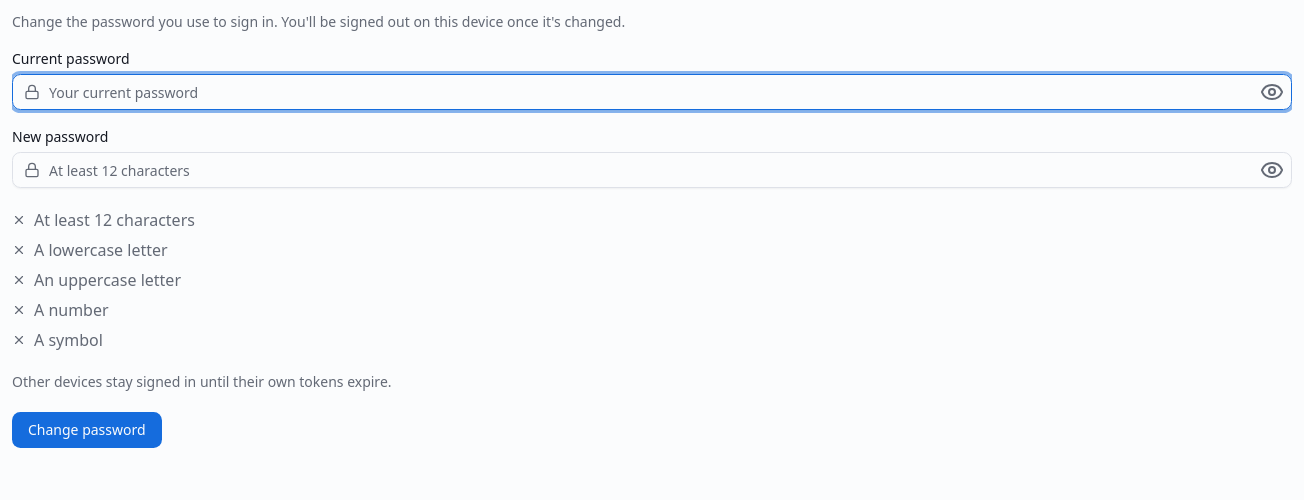
ChangePasswordForm › blocks submission client-side when the new password breaks the policy
The width and height of the screenshot is (1304, 500).
Type "DemoPass123!" into the password field labelled "Current password".
click(652, 92); type("DemoPass123!")  # box [12,74,1292,110]
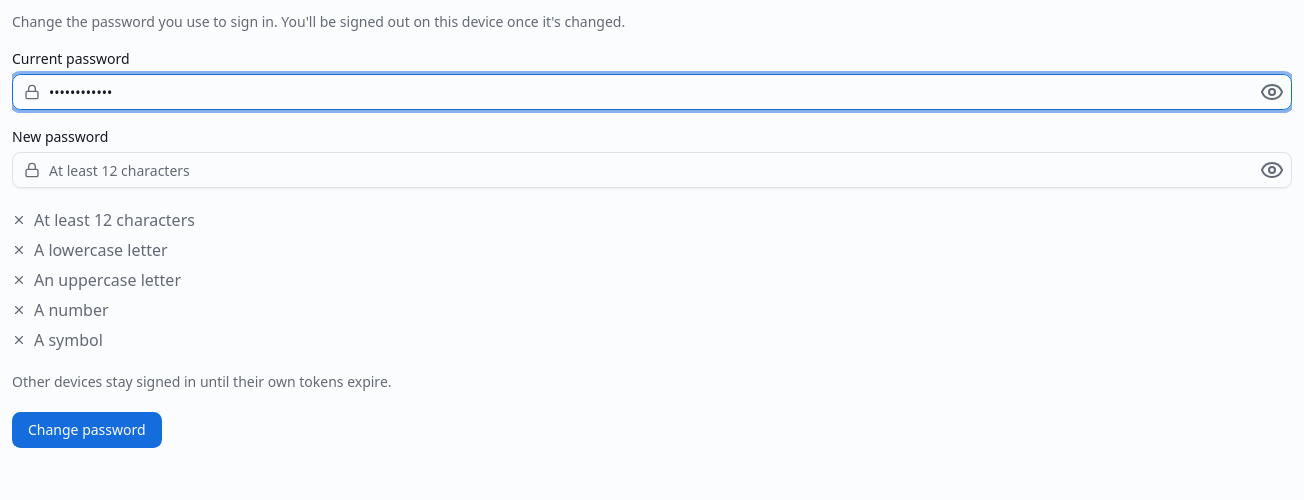
Type "alllowercasepassword" into the password field labelled "New password".
click(652, 170); type("alllowercasepassword")  # box [12,152,1292,188]
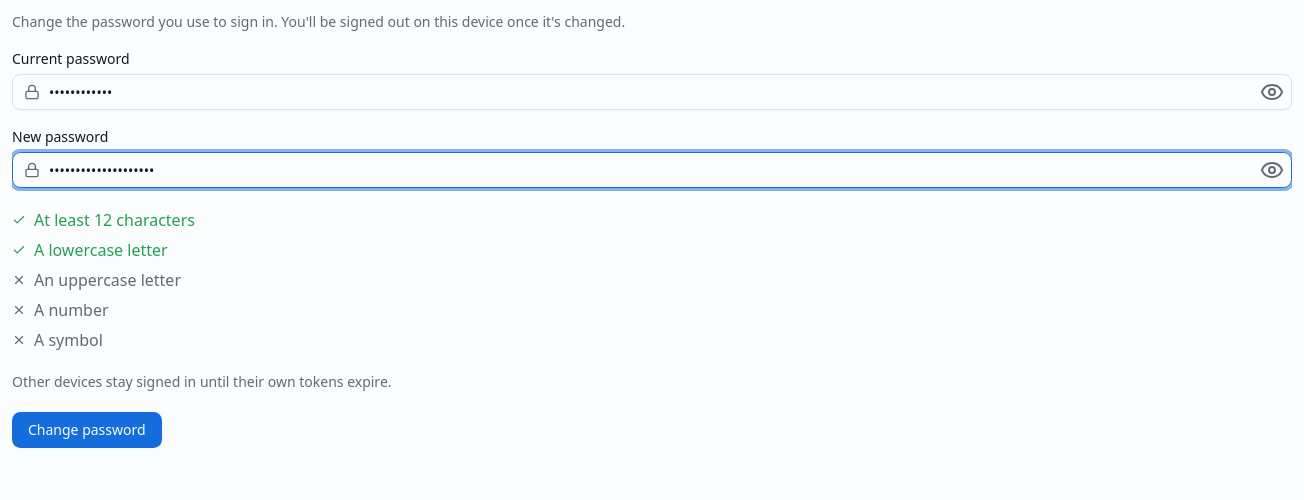
Click the button "Change password".
click(87, 430)  # box [12,412,162,448]
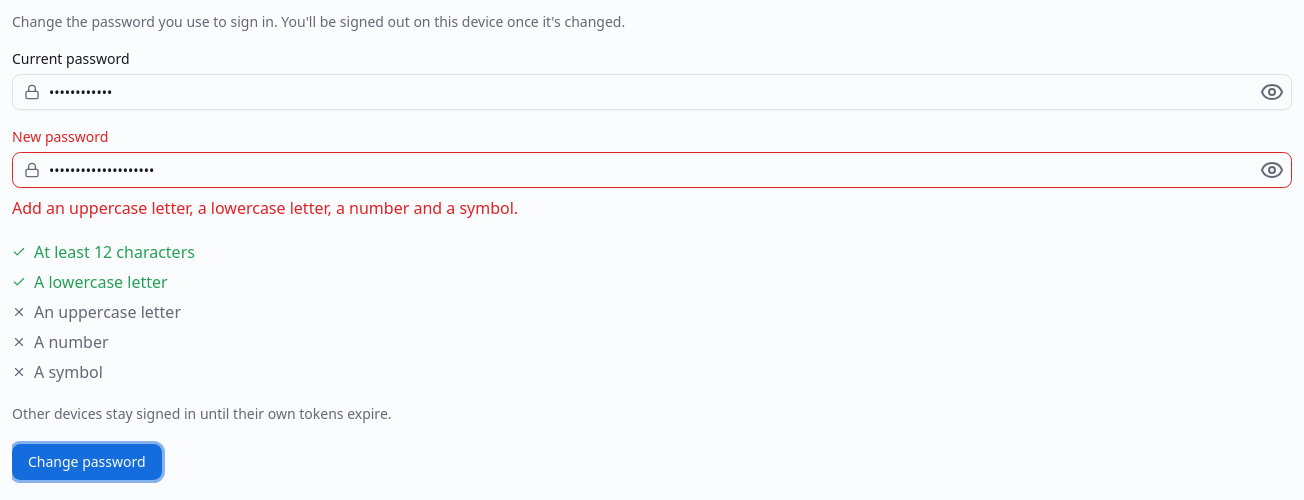
expect the text "Add an uppercase letter, a lowercase letter, a number and a symbol." is shown: met, box [12,197,518,219]
